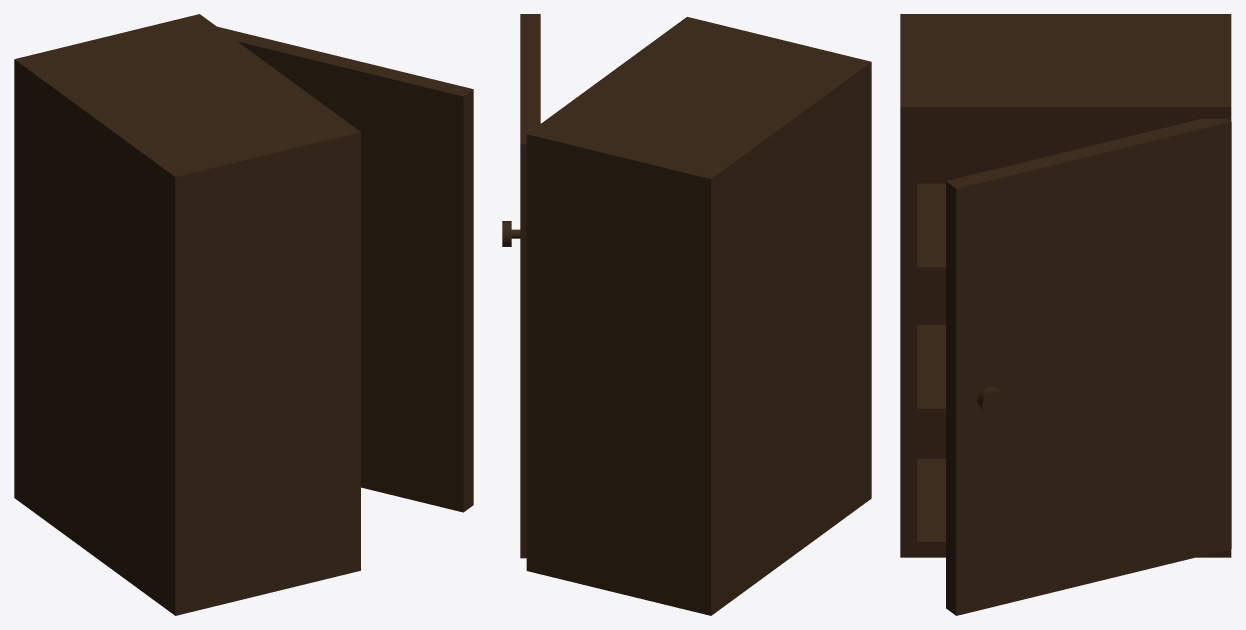
File: KitchenCabinet_Top_SlightOpen.FBX
The picture shows the model from 3 angles, left to right: view 1: azimuth 30°, elevation 25°; view 2: azimuth 150°, elevation 25°; view 3: azimuth 270°, elevation 25°; orthographic projection. The views are drawn at different scales.
Parts seen in each view (by area): view 1: Box016; view 2: Box016; view 3: Box016.
Boxes of the visible parts, x1,y1,x2,y2 form: Box016: [14, 14, 473, 615]; Box016: [502, 14, 871, 615]; Box016: [900, 14, 1231, 615].
Size of the model in its own units: 26.26 by 33.24 by 22.16.
